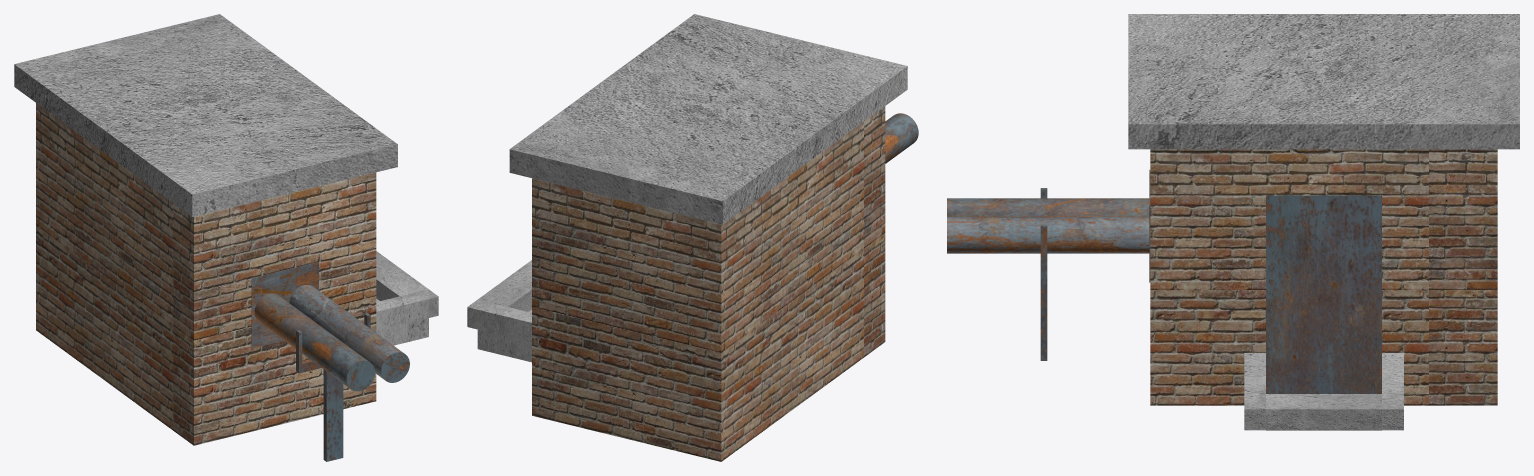
The model's file is water_pump.glb.
3 views of the same model, side by side, from view 1: azimuth 30°, elevation 25°; view 2: azimuth 150°, elevation 25°; view 3: azimuth 270°, elevation 25° (orthographic). The views are drawn at different scales.
Parts seen in each view (by area): view 1: steny, plita, tube, steny.001, opora, plastina; view 2: steny, plita, steny.001, tube; view 3: steny, plita, door, tube, steny.001, opora.
Part boxes in pixels (box(x1,y1,x2,y2)): steny: box(36, 103, 376, 445); plita: box(14, 14, 397, 216); tube: box(254, 285, 409, 391); steny.001: box(376, 251, 438, 345); opora: box(296, 313, 370, 461); plastina: box(251, 262, 318, 348); steny: box(532, 106, 885, 461); plita: box(509, 14, 907, 224); steny.001: box(467, 260, 531, 362); tube: box(885, 113, 918, 163); steny: box(1150, 149, 1497, 405); plita: box(1128, 14, 1519, 149); door: box(1266, 195, 1381, 393); tube: box(947, 198, 1149, 253); steny.001: box(1244, 353, 1403, 430); opora: box(1040, 188, 1047, 360).
Bounding box in the file's own units: 3.28 × 2.74 × 4.94.
5 materials, 5 textured.
